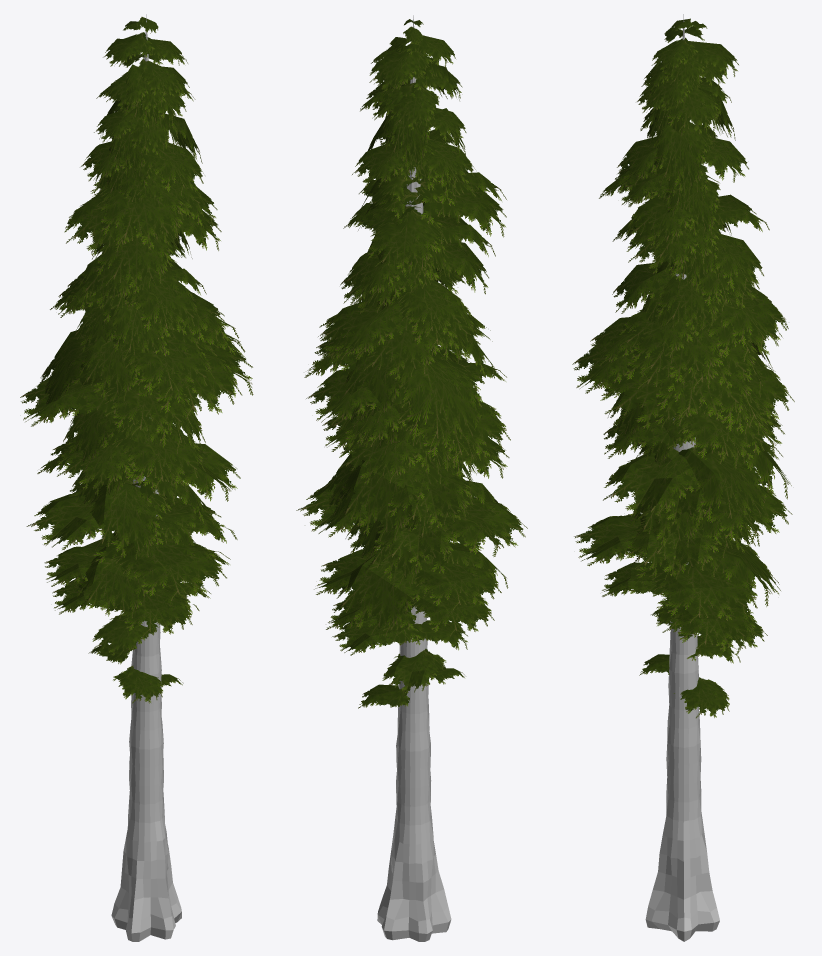
File: TreeMedium004.fbx
The picture shows the model from 3 angles, left to right: view 1: azimuth 30°, elevation 25°; view 2: azimuth 150°, elevation 25°; view 3: azimuth 270°, elevation 25°; orthographic projection.
Visible parts, largest first — view 1: TreeMedium004_LOD0; view 2: TreeMedium004_LOD0; view 3: TreeMedium004_LOD0.
Part boxes in pixels (box(x1,y1,x2,y2)): TreeMedium004_LOD0: box(20, 14, 253, 941); TreeMedium004_LOD0: box(296, 15, 527, 941); TreeMedium004_LOD0: box(572, 14, 794, 941).
Bounding box in the file's own units: 772 × 3089 × 740.
